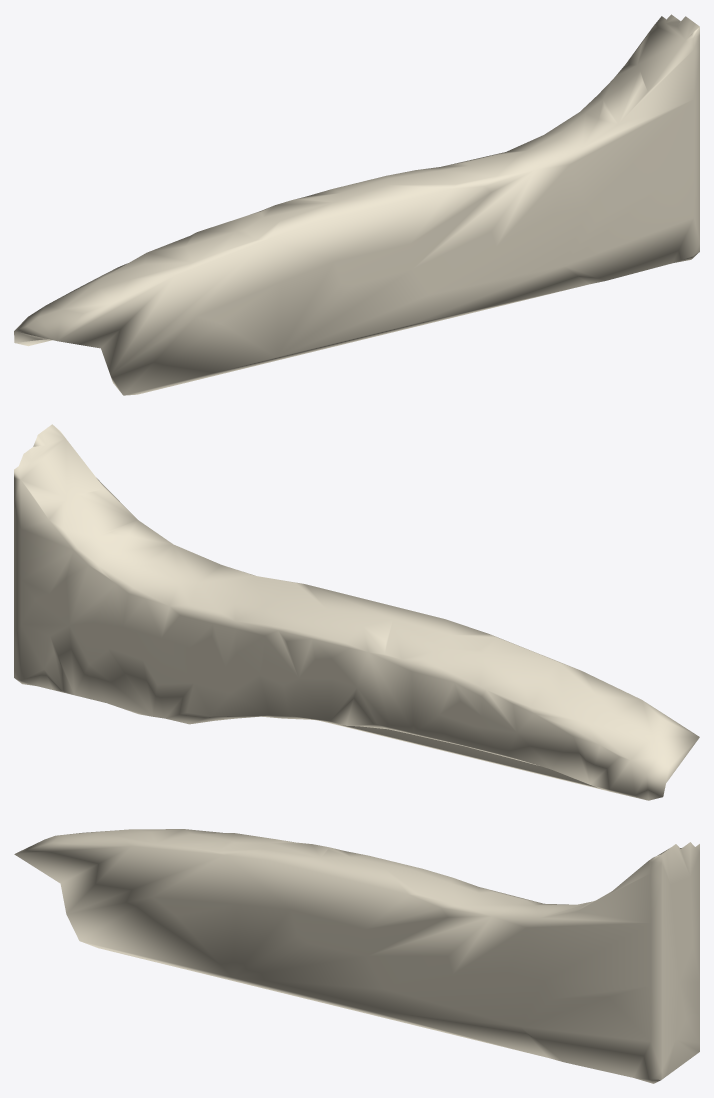
The model's file is nasal_r.glb.
3 views of the same model, one above another, from view 1: azimuth 30°, elevation 25°; view 2: azimuth 150°, elevation 25°; view 3: azimuth 330°, elevation 25° (orthographic).
Parts seen in each view (by area): view 1: geometry_0; view 2: geometry_0; view 3: geometry_0.
Part boxes in pixels (box(x1,y1,x2,y2)): geometry_0: box(14, 14, 699, 395); geometry_0: box(14, 424, 699, 800); geometry_0: box(14, 829, 699, 1083).
Size of the model in its own units: 0.3139 by 0.1072 by 0.035.
